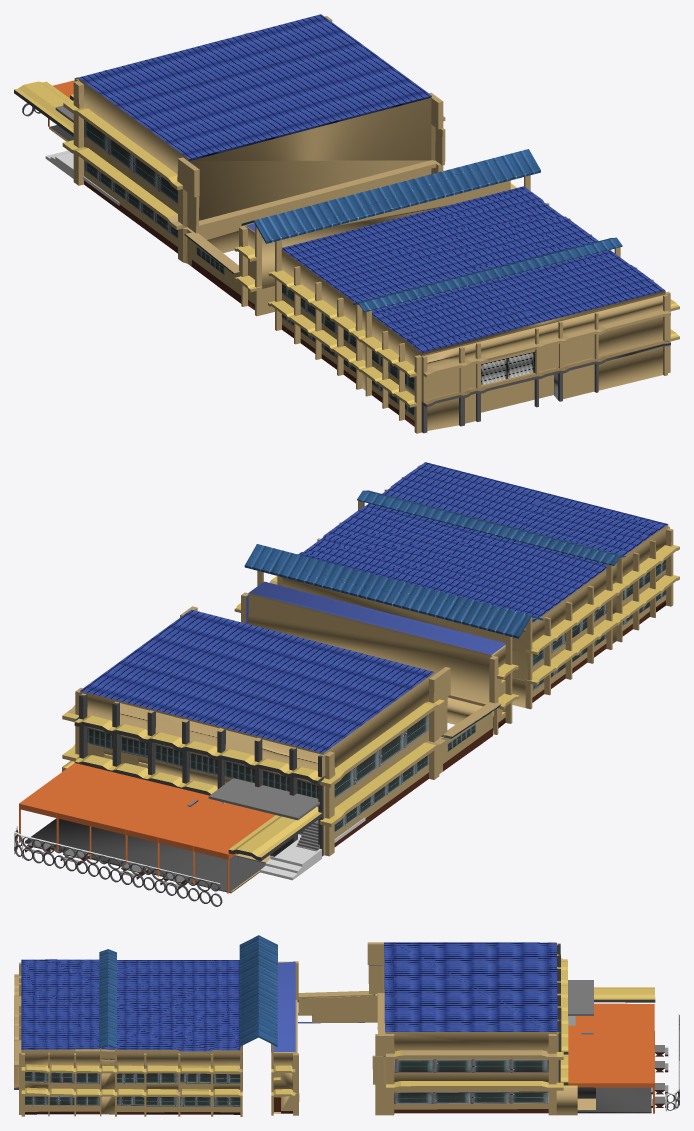
Rendered from ELEMENTARY .fbx.
3 views of the same model, one above another, from view 1: azimuth 30°, elevation 25°; view 2: azimuth 150°, elevation 25°; view 3: azimuth 270°, elevation 25° (orthographic). The views are drawn at different scales.
Visible parts, largest first — view 1: Cube.119, Cube.166, Cube.165; view 2: Cube.166, Cube.119, Cube.167, Cube.098, Cube.165; view 3: Cube.166, Cube.119, Cube.167, Cube.098.
Boxes of the visible parts, x1=… form: Cube.119: x1=234, y1=149, x2=679, y2=433; Cube.166: x1=14, y1=14, x2=445, y2=303; Cube.165: x1=45, y1=150, x2=119, y2=205; Cube.166: x1=19, y1=606, x2=501, y2=893; Cube.119: x1=234, y1=462, x2=679, y2=734; Cube.167: x1=208, y1=778, x2=319, y2=851; Cube.098: x1=14, y1=826, x2=222, y2=906; Cube.165: x1=260, y1=817, x2=365, y2=880; Cube.166: x1=298, y1=942, x2=655, y2=1115; Cube.119: x1=14, y1=935, x2=299, y2=1116; Cube.167: x1=568, y1=980, x2=593, y2=1015; Cube.098: x1=665, y1=1013, x2=679, y2=1111.
Bounding box in the file's own units: 9506 × 3643 × 25693.
